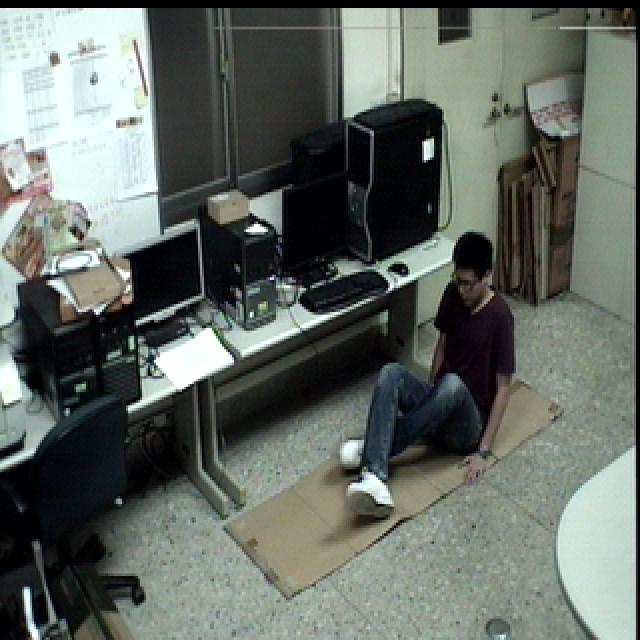sit: (334, 222, 524, 527)
